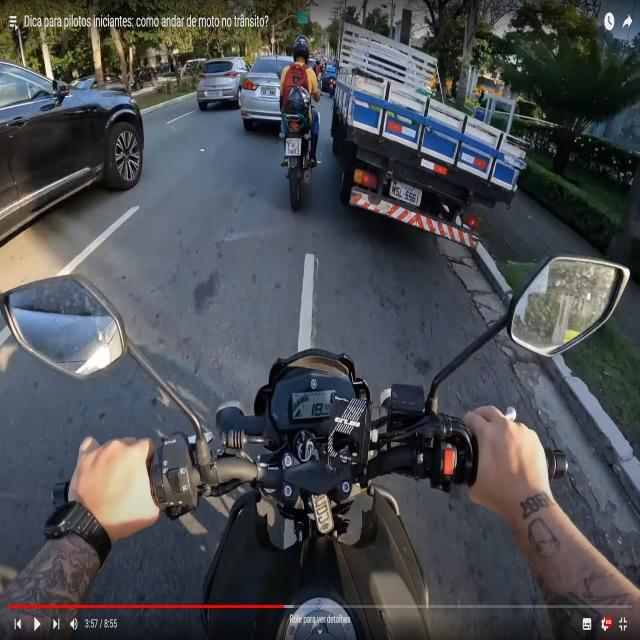Placa_mercosul_carro: (389, 179, 422, 207), (260, 87, 276, 96), (209, 91, 220, 96)
placa_moto: (285, 138, 301, 156)
